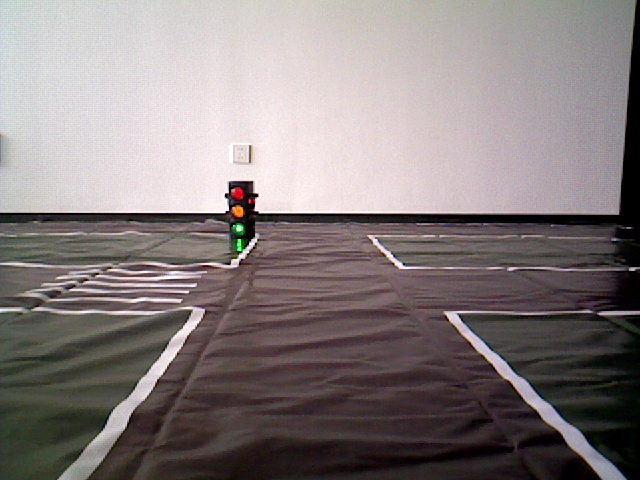green: (228, 182, 255, 234)
